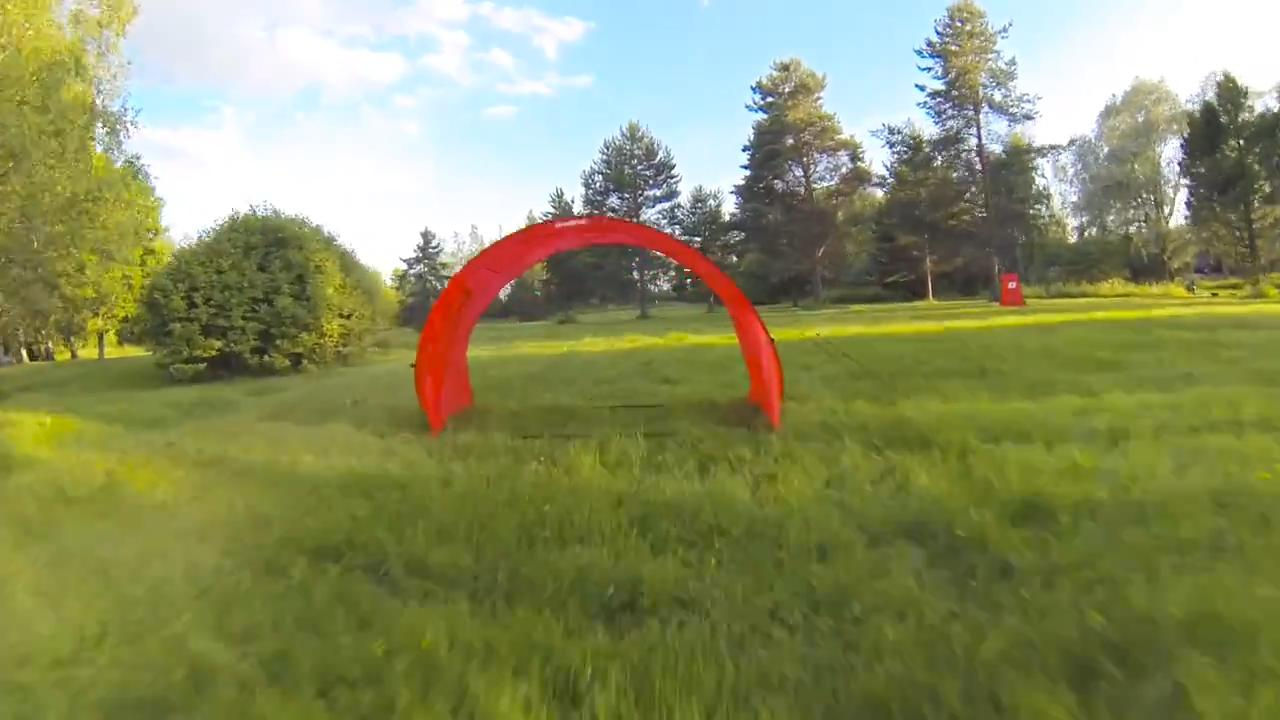gate: (405, 210, 788, 433)
